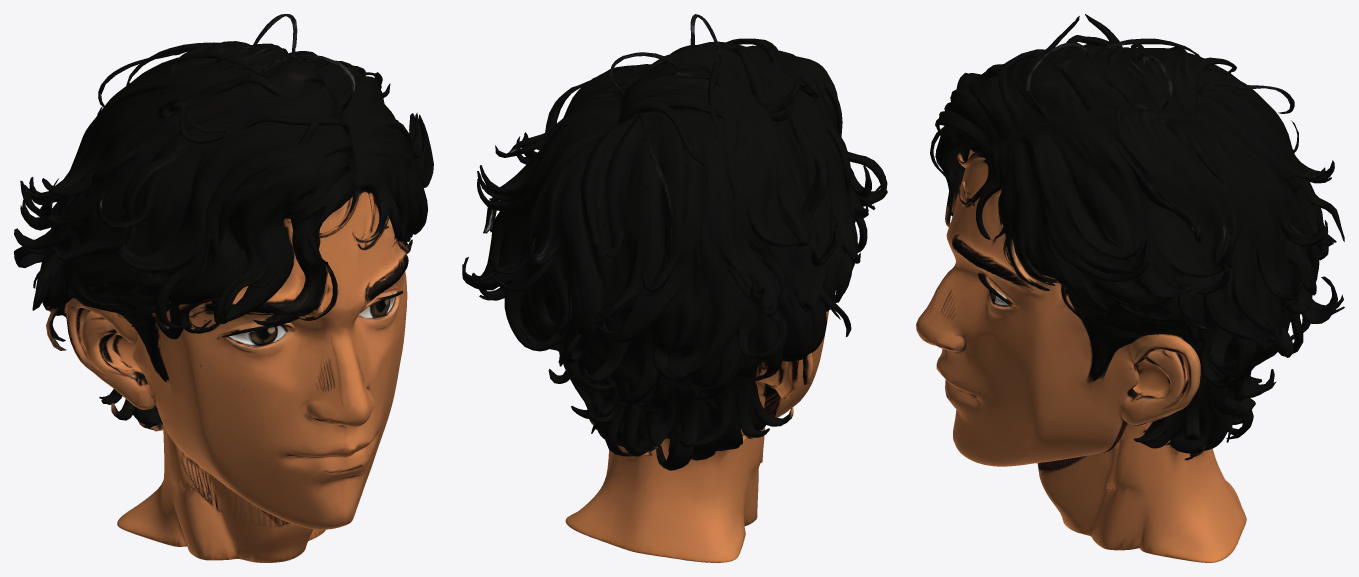
The picture shows the model from 3 angles, left to right: view 1: azimuth 30°, elevation 25°; view 2: azimuth 150°, elevation 25°; view 3: azimuth 270°, elevation 25°; orthographic projection. The views are drawn at different scales.
Visible parts, largest first — view 1: tripo_node_d28e51d1-9b64-4506-8f0b-bc0f5cf4100e; view 2: tripo_node_d28e51d1-9b64-4506-8f0b-bc0f5cf4100e; view 3: tripo_node_d28e51d1-9b64-4506-8f0b-bc0f5cf4100e.
Part boxes in pixels (left/top/right/bottom): tripo_node_d28e51d1-9b64-4506-8f0b-bc0f5cf4100e: left=14, top=14, right=433, bottom=562; tripo_node_d28e51d1-9b64-4506-8f0b-bc0f5cf4100e: left=462, top=14, right=887, bottom=562; tripo_node_d28e51d1-9b64-4506-8f0b-bc0f5cf4100e: left=916, top=14, right=1344, bottom=562.
Bounding box in the file's own units: 0.7866 × 0.9791 × 0.7865.
Materials: 1 (1 with a texture image).
